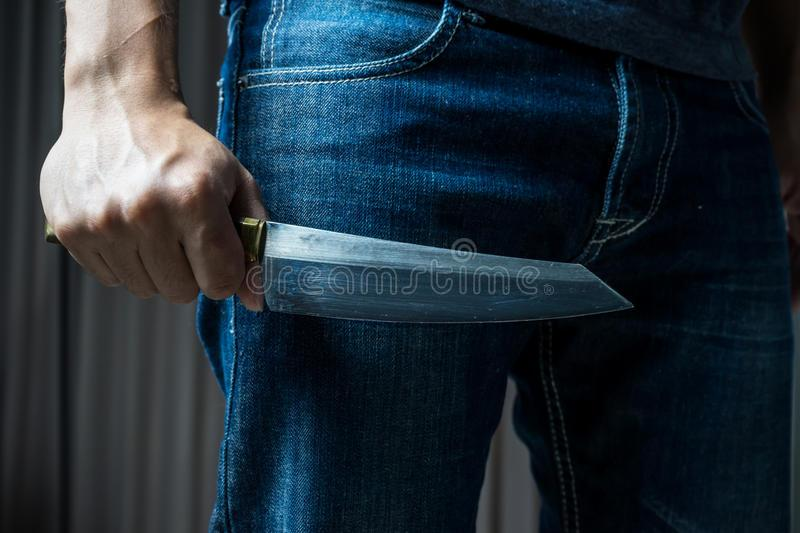weapon: (43, 211, 641, 326)
